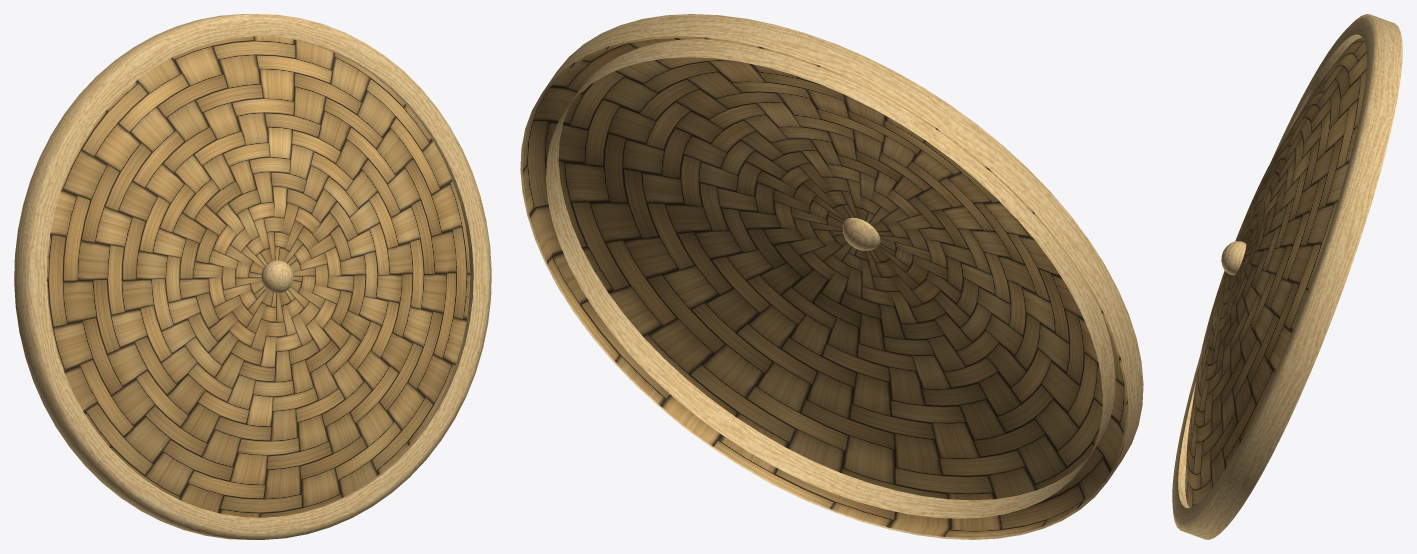
The model's file is ENV_Dimsum_Lid.fbx.
3 renders of one model, left to right at view 1: azimuth 30°, elevation 25°; view 2: azimuth 150°, elevation 25°; view 3: azimuth 270°, elevation 25°, orthographic. The views are drawn at different scales.
Parts seen in each view (by area): view 1: ENV_Dimsum_Lid; view 2: ENV_Dimsum_Lid; view 3: ENV_Dimsum_Lid.
Part boxes in pixels (x1,y1,x2,y2): ENV_Dimsum_Lid: (14,14,491,539); ENV_Dimsum_Lid: (520,14,1143,539); ENV_Dimsum_Lid: (1172,14,1402,539).
Size of the model in its own units: 13.1 by 12.38 by 5.49.
